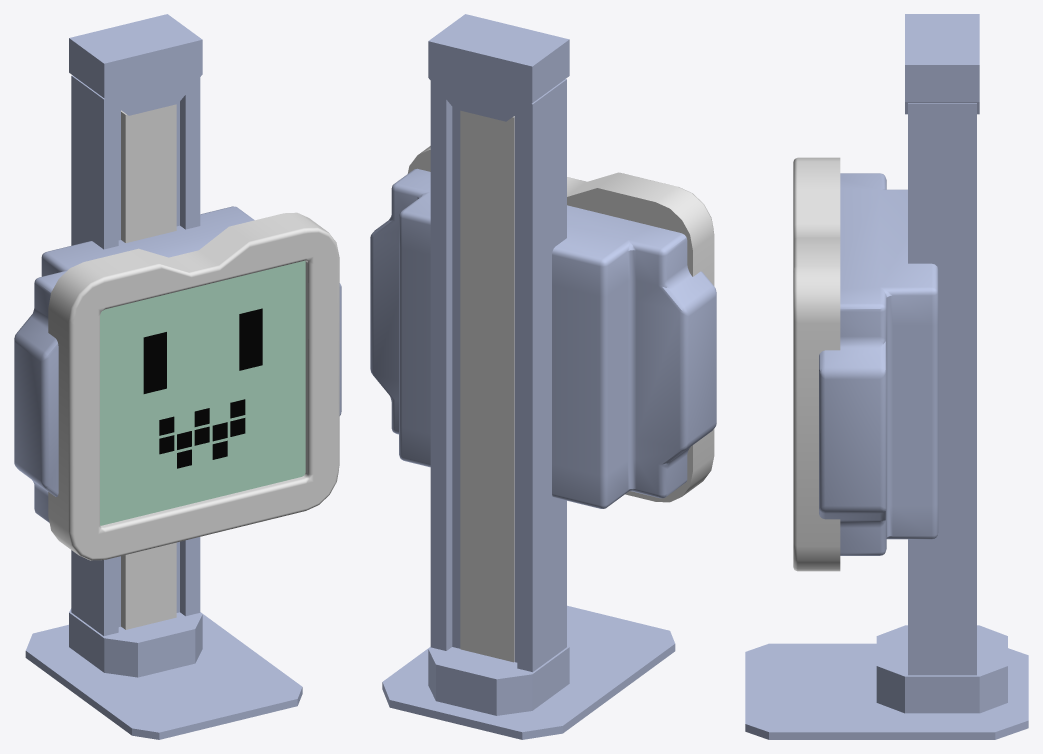
File: SNUH_Ray.fbx
3 renders of one model, left to right at view 1: azimuth 30°, elevation 25°; view 2: azimuth 150°, elevation 25°; view 3: azimuth 270°, elevation 25°, orthographic. The views are drawn at different scales.
Visible parts, largest first — view 1: Cube.007, Cube.006, Cube.009, Cube.005, Cube.008, Cube.010, Cube.011, Plane.001; view 2: Cube.005, Cube.009, Cube.008, Cube.006, Cube.010, Cube.007; view 3: Cube.005, Cube.009, Cube.006, Cube.007, Cube.010.
Boxes of the visible parts, x1,y1,x2,y2 form: Cube.007: (48, 212, 339, 560); Cube.006: (25, 608, 302, 739); Cube.009: (71, 75, 200, 635); Cube.005: (14, 206, 341, 522); Cube.008: (121, 104, 176, 629); Cube.010: (69, 14, 202, 115); Cube.011: (143, 308, 262, 393); Plane.001: (159, 399, 245, 468); Cube.005: (370, 168, 716, 508); Cube.009: (430, 79, 566, 672); Cube.008: (460, 110, 514, 662); Cube.006: (382, 605, 675, 739); Cube.010: (428, 14, 569, 121); Cube.007: (407, 146, 714, 502); Cube.005: (819, 173, 938, 555); Cube.009: (908, 103, 976, 675); Cube.006: (745, 625, 1028, 739); Cube.007: (793, 157, 840, 571); Cube.010: (905, 14, 979, 114).
Bounding box in the file's own units: 195 × 381 × 149.
